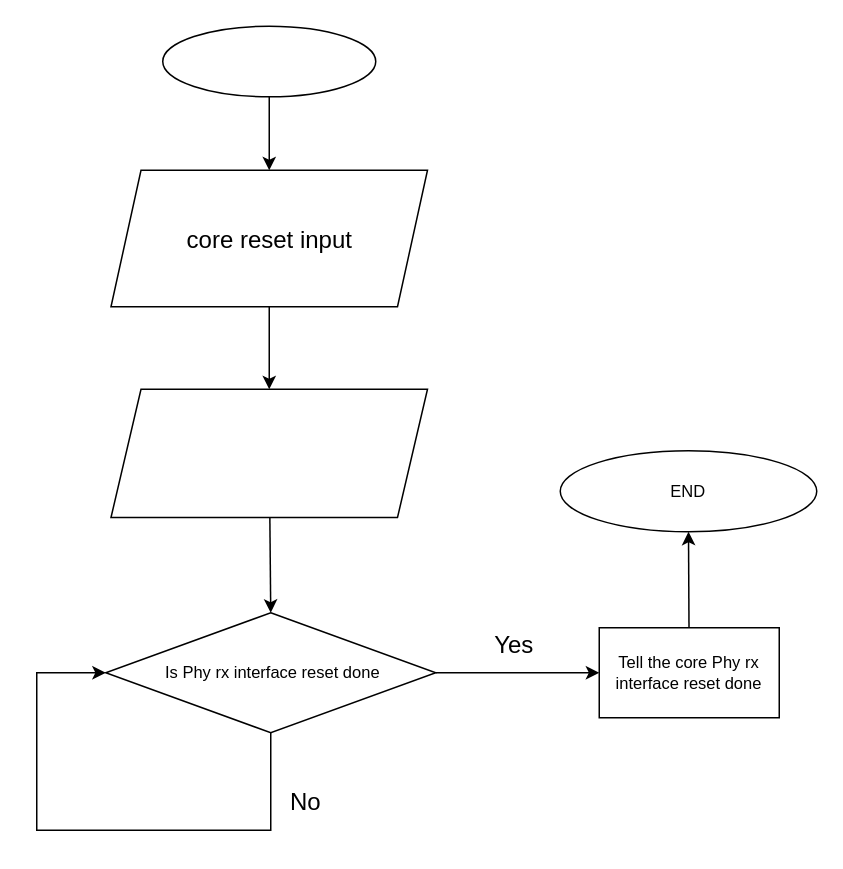
Some shapes in this 843 by 869 pixel diagram are drawn without their labels. The shapes that lost their labels are listed below. From the top down, each one's centre as x and y in pixels, then its label:
the point at 268,61: start
the point at 269,453: core gt reset output
